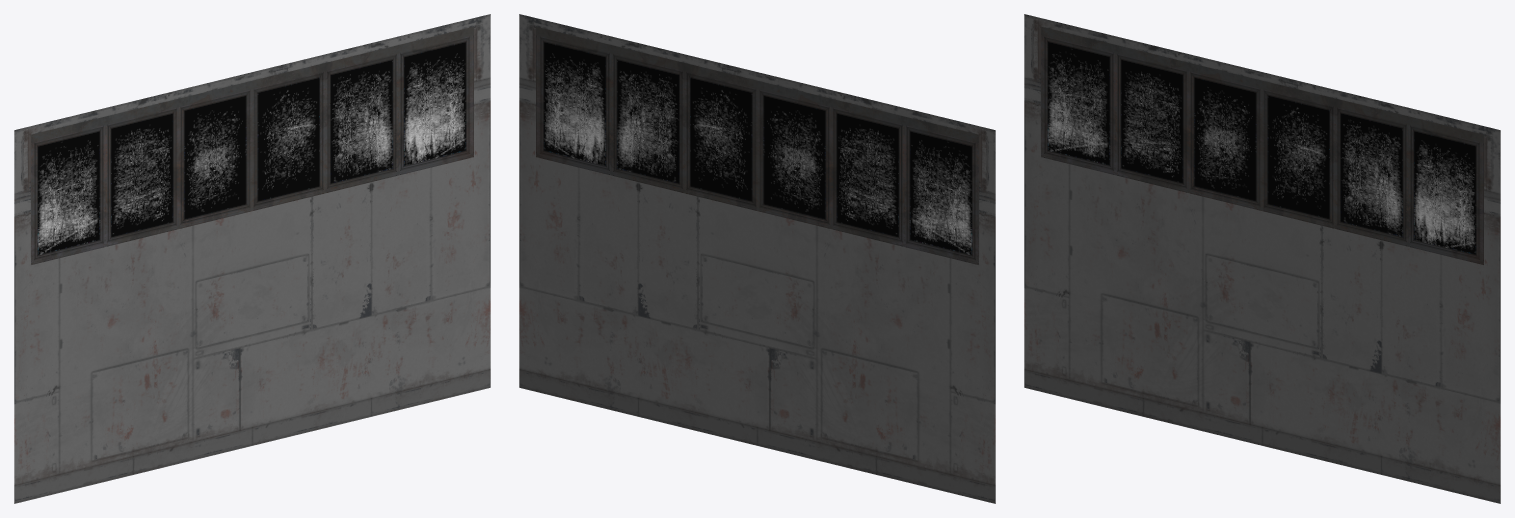
Rendered from ARC0910213.fbx.
3 views of the same model, side by side, from view 1: azimuth 30°, elevation 25°; view 2: azimuth 150°, elevation 25°; view 3: azimuth 330°, elevation 25° (orthographic).
Visible parts, largest first — view 1: smARC0910213; view 2: smARC0910213; view 3: smARC0910213.
Boxes of the visible parts, x1,y1,x2,y2 form: smARC0910213: (14,14,490,503); smARC0910213: (519,14,995,503); smARC0910213: (1024,14,1500,503).
Bounding box in the file's own units: 400 × 300 × 4.58e-05.
Materials: 1 (1 with a texture image).
